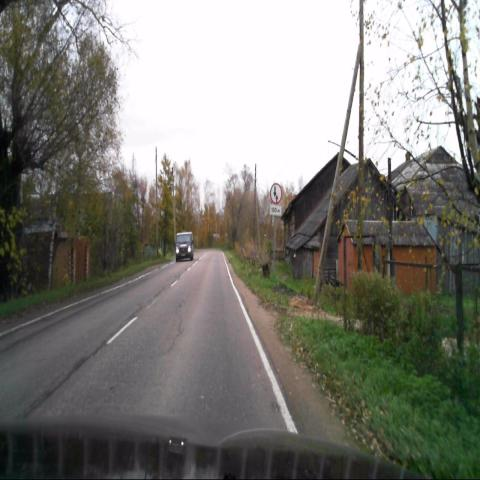2_6: (270, 182, 282, 204)
